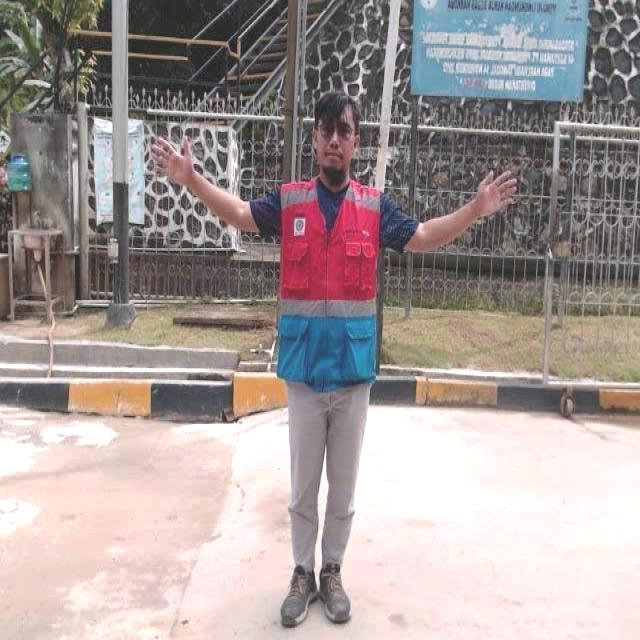vest: (274, 175, 381, 384)
